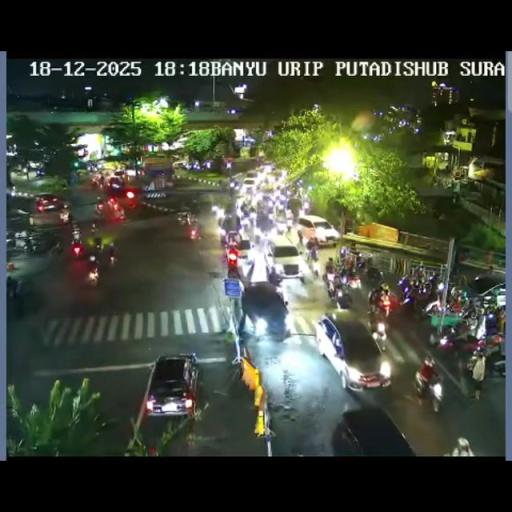Car: (318, 310, 392, 389), (332, 405, 418, 455), (144, 353, 201, 418), (268, 232, 306, 282), (294, 214, 338, 246), (29, 194, 70, 224), (98, 171, 138, 198), (218, 213, 246, 251), (265, 168, 288, 184), (241, 176, 259, 194), (172, 160, 189, 170)
Motorcycle: (424, 284, 503, 391), (413, 362, 444, 412), (399, 280, 435, 314), (322, 270, 352, 310), (482, 339, 505, 378), (428, 322, 458, 350), (468, 355, 486, 399), (237, 287, 254, 333), (485, 308, 501, 337), (459, 298, 478, 322), (363, 264, 383, 286), (85, 259, 100, 287), (306, 240, 320, 270), (378, 283, 392, 313), (226, 250, 240, 279), (6, 276, 20, 302), (6, 230, 22, 252), (48, 237, 66, 256), (252, 224, 270, 242), (426, 272, 440, 295), (70, 239, 86, 259), (187, 218, 201, 240), (188, 198, 201, 218), (211, 204, 225, 222), (25, 236, 38, 254), (236, 199, 247, 220), (176, 210, 190, 226), (70, 222, 81, 242), (325, 258, 336, 278), (108, 249, 118, 269), (90, 222, 100, 242), (95, 198, 106, 214), (115, 206, 126, 222), (339, 245, 349, 261), (356, 256, 366, 270), (228, 182, 236, 198), (94, 238, 102, 253), (90, 178, 98, 190), (297, 229, 303, 245), (302, 200, 310, 212), (286, 217, 292, 231), (98, 174, 104, 188)
